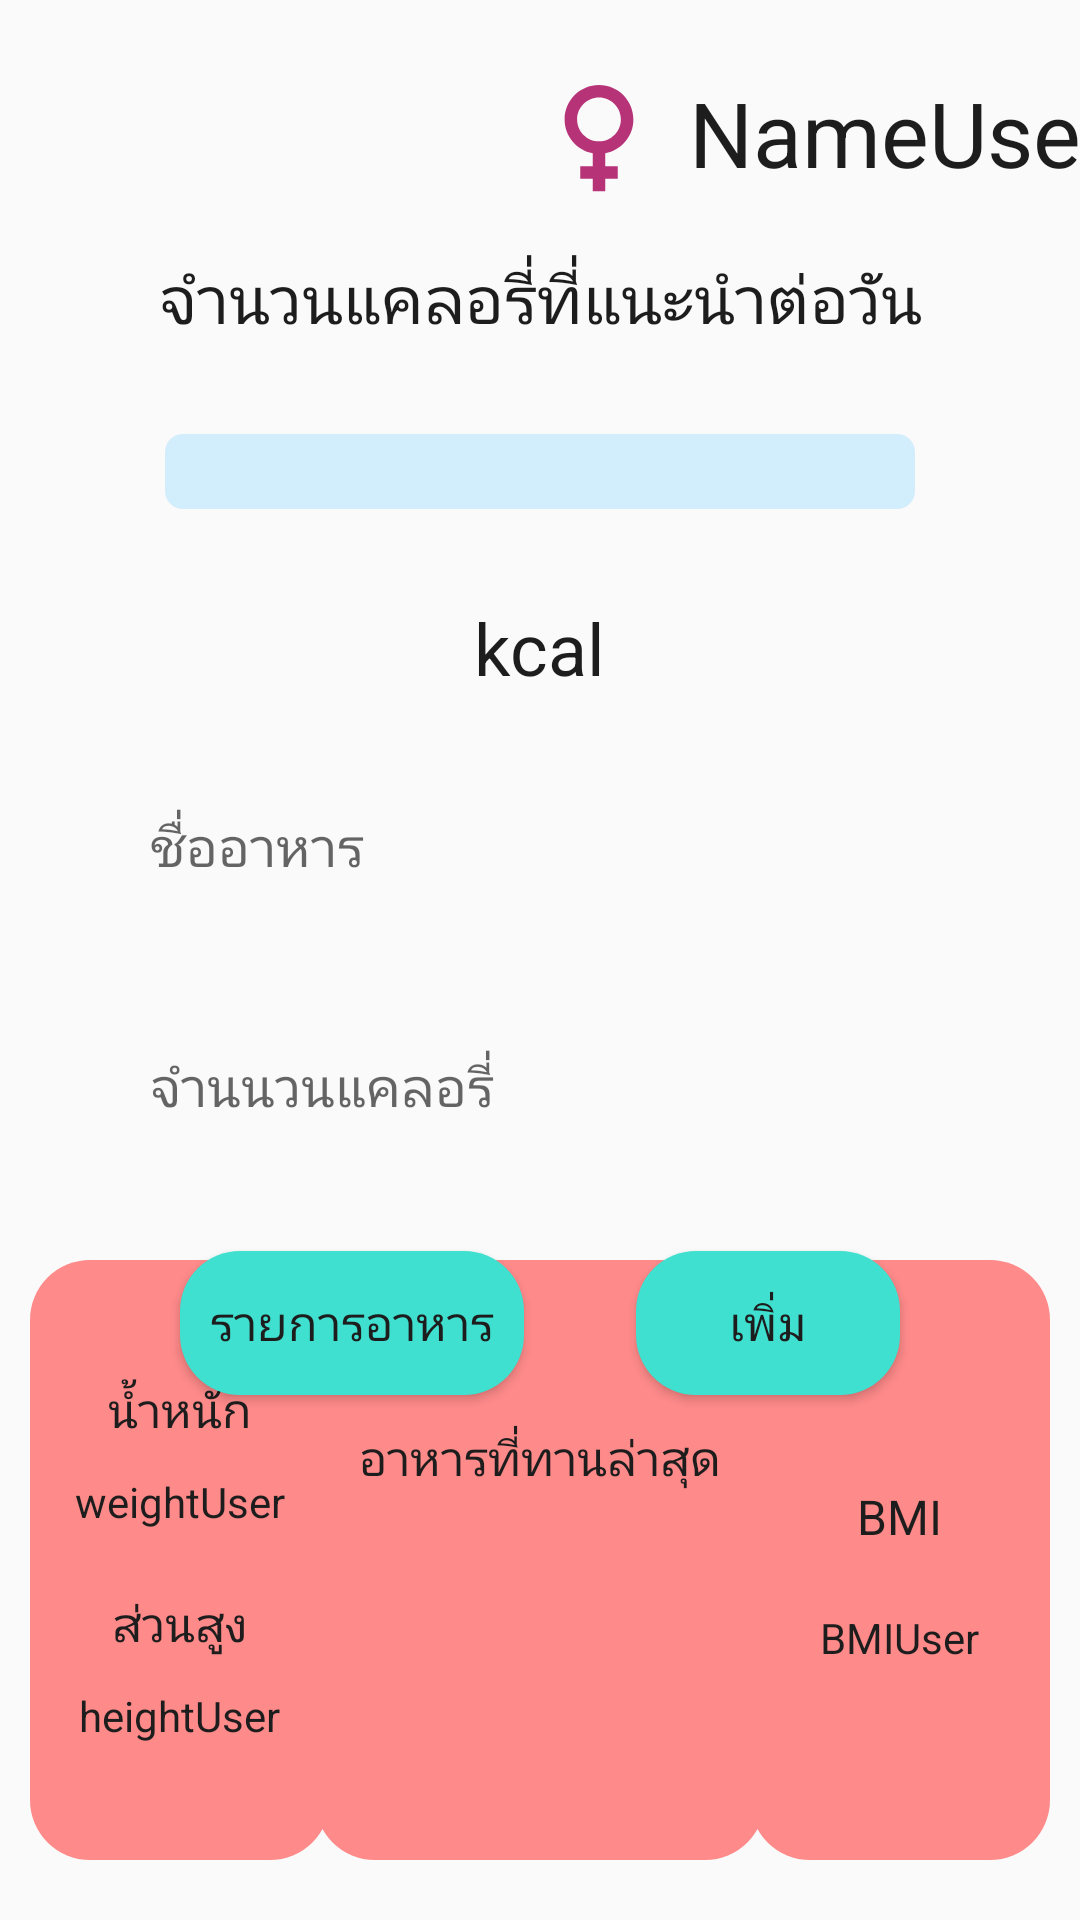

Where to tap for icons on this 1080 × 1920 app screen, as [x,y]:
female home: [599,138]
